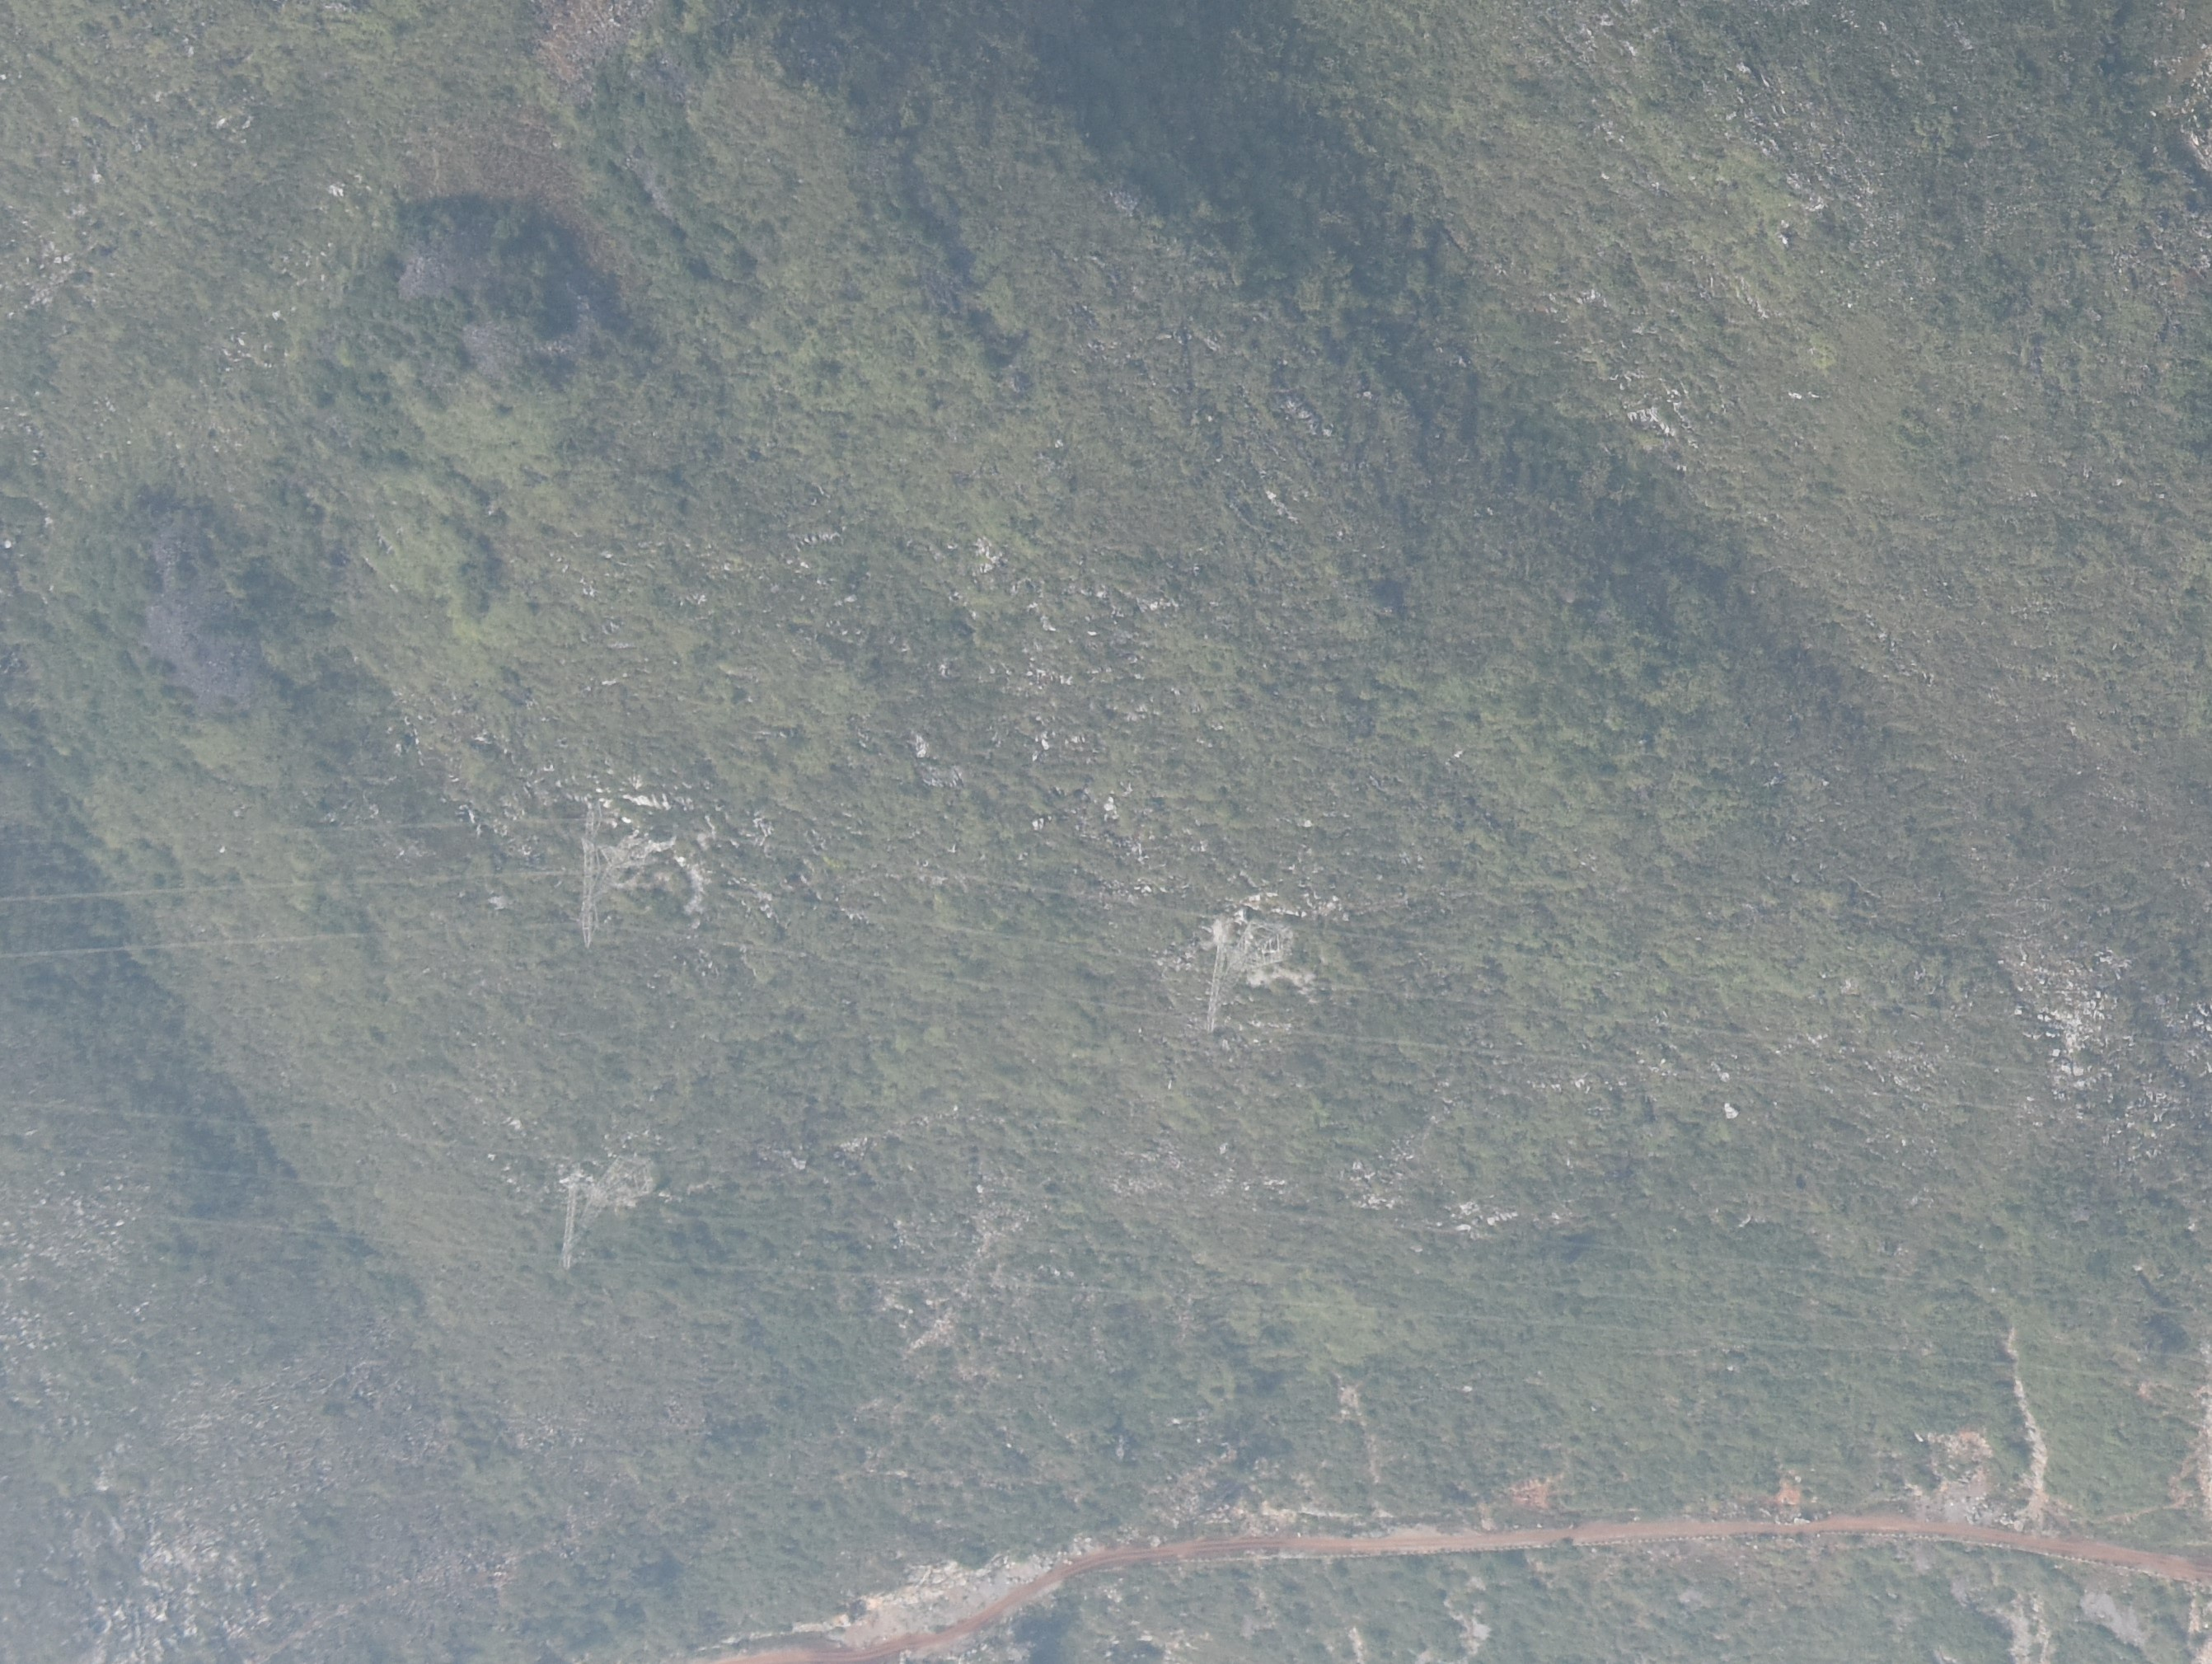cable-tower: (579, 806, 656, 950), (559, 1155, 651, 1268), (1205, 919, 1292, 1035)
